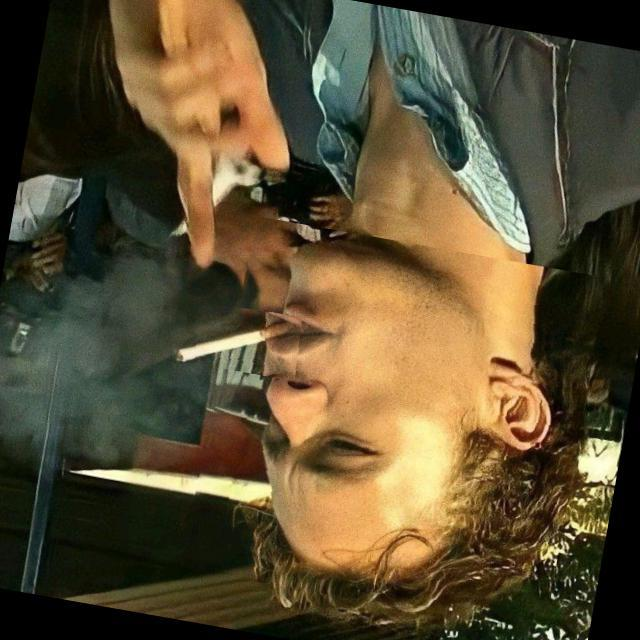cigarette: (154, 294, 306, 382)
